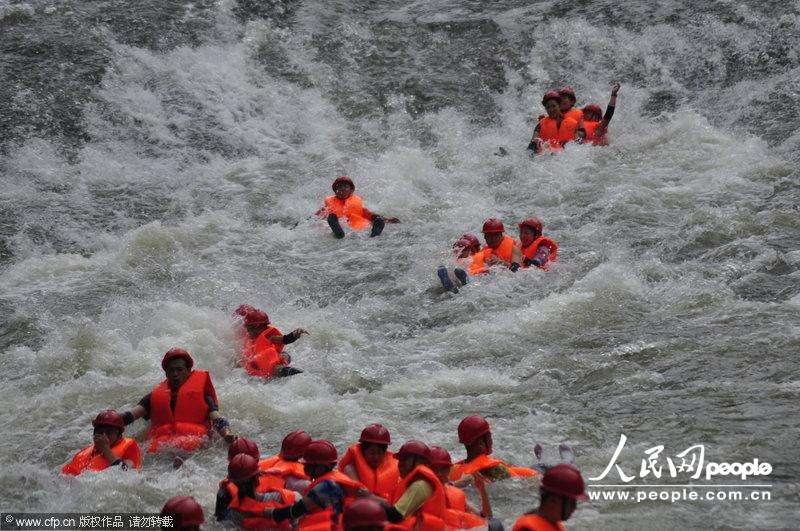reflective_clothes: (140, 375, 216, 456), (71, 435, 140, 480), (388, 465, 447, 516), (237, 328, 285, 380), (306, 468, 358, 512), (350, 447, 397, 495), (452, 452, 511, 487), (322, 195, 372, 234), (533, 113, 580, 154), (512, 504, 562, 531), (479, 239, 517, 272), (521, 238, 556, 268)
